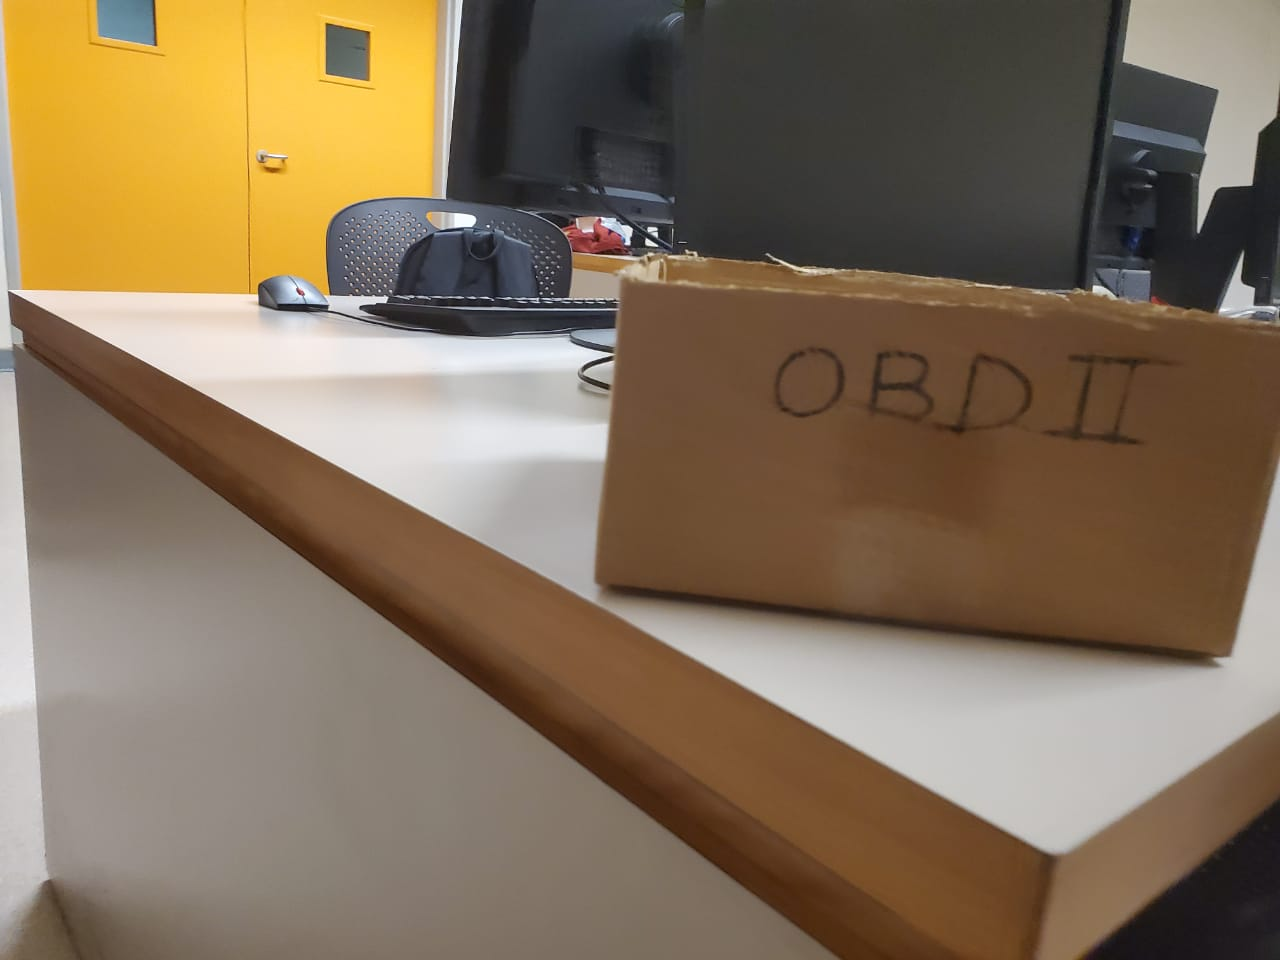CBox: (600, 242, 1278, 662)
